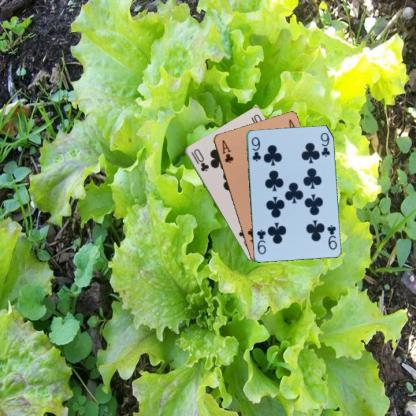10c: (188, 146, 210, 173)
9c: (248, 134, 262, 162), (325, 222, 338, 251)
Ac: (219, 137, 235, 164)
